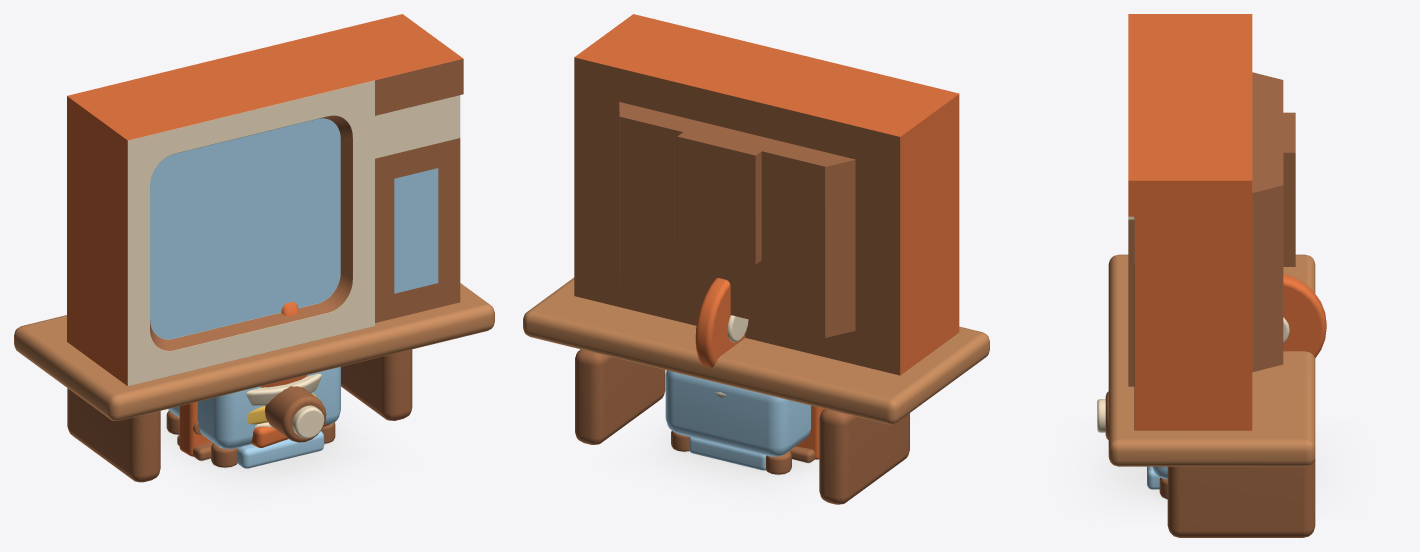
File: interest_movie_v1.glb
The picture shows the model from 3 angles, left to right: view 1: azimuth 30°, elevation 25°; view 2: azimuth 150°, elevation 25°; view 3: azimuth 270°, elevation 25°; orthographic projection. The views are drawn at different scales.
Parts seen in each view (by area): view 1: tv_televisionvintage, tv_shelf, shadow_projector, tv_shelf_bracket_l, projector_body, tv_shelf_bracket_r, comic_stack, projector_lens, vhs_tapes, popcorn, projector_lens_glass; view 2: tv_televisionvintage, tv_shelf, projector_body, tv_shelf_bracket_l, tv_shelf_bracket_r, shadow_projector, projector_reel_back, comic_stack, vhs_tapes; view 3: tv_televisionvintage, tv_shelf, tv_shelf_bracket_r, shadow_projector, projector_reel_back.
Boxes of the visible parts, box(x1,y1,x2,y2) form: tv_televisionvintage: box(67, 14, 463, 386); tv_shelf: box(14, 283, 494, 420); shadow_projector: box(161, 408, 387, 495); tv_shelf_bracket_l: box(67, 388, 160, 482); projector_body: box(168, 367, 340, 449); tv_shelf_bracket_r: box(341, 349, 412, 420); comic_stack: box(237, 393, 329, 468); projector_lens: box(265, 386, 326, 442); vhs_tapes: box(179, 402, 211, 456); popcorn: box(246, 374, 321, 428); projector_lens_glass: box(292, 405, 324, 438); tv_televisionvintage: box(574, 14, 959, 375); tv_shelf: box(523, 277, 989, 424); projector_body: box(665, 370, 810, 456); tv_shelf_bracket_l: box(819, 409, 909, 504); tv_shelf_bracket_r: box(575, 349, 665, 444); shadow_projector: box(625, 417, 819, 498); projector_reel_back: box(695, 278, 745, 367); comic_stack: box(689, 437, 765, 470); vhs_tapes: box(796, 405, 824, 459); tv_televisionvintage: box(1128, 14, 1295, 430); tv_shelf: box(1108, 254, 1315, 466); tv_shelf_bracket_r: box(1167, 458, 1315, 537); shadow_projector: box(1078, 430, 1344, 514); projector_reel_back: box(1283, 274, 1326, 357).
Bounding box in the file's own units: 0.8004 × 0.7308 × 0.685.
7 materials, 1 textured.
